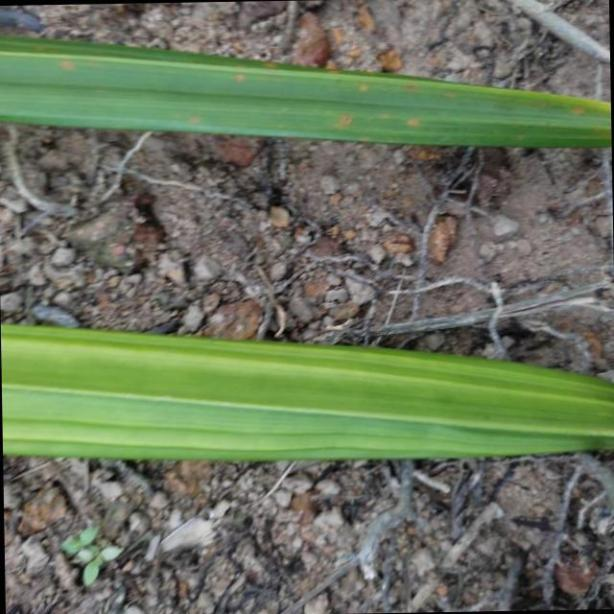nitrogen: (0, 319, 614, 464), (0, 29, 614, 147)
